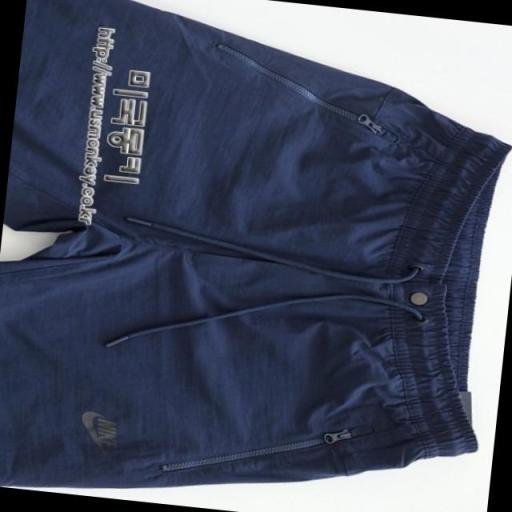Nike: (74, 408, 107, 454), (92, 417, 121, 450)
